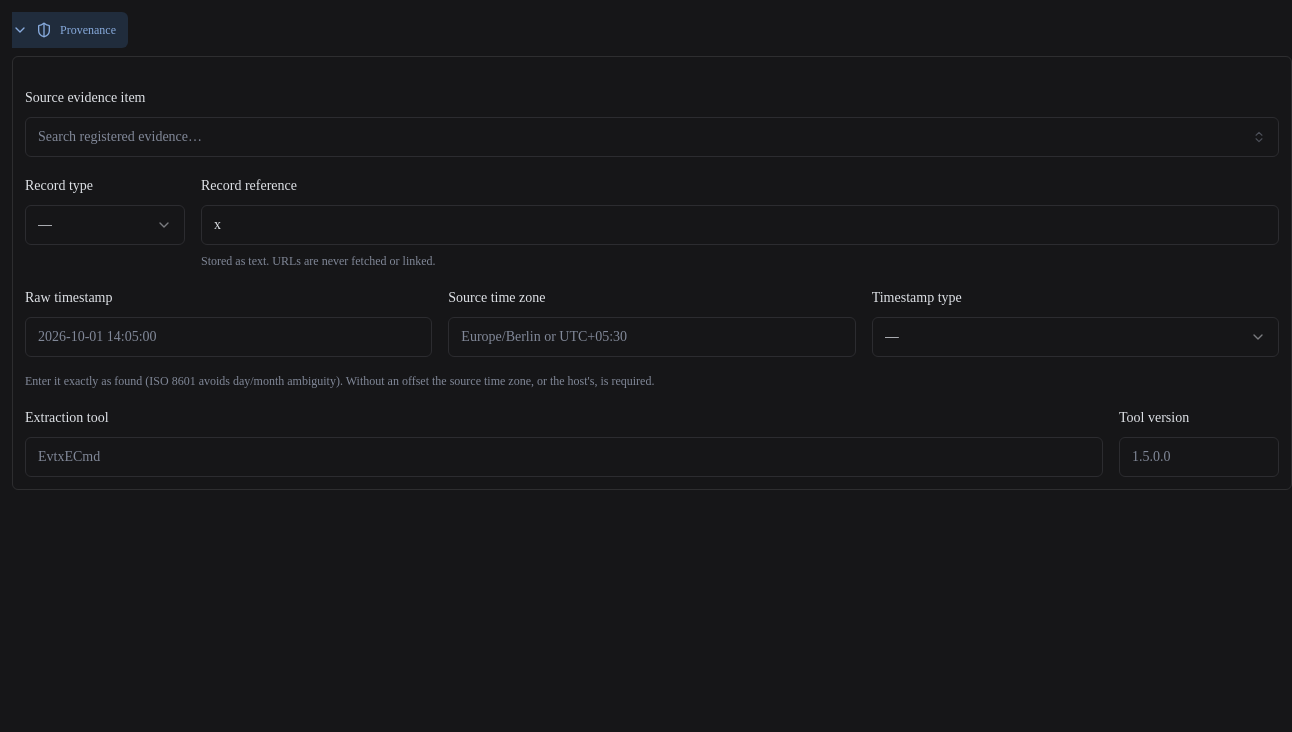
ProvenanceSection › debounces the normalize preview and shows the UTC value and skew
Type "2026-10-01 1" into the field labelled "Raw timestamp" at [229, 337], box [25,317,432,357]
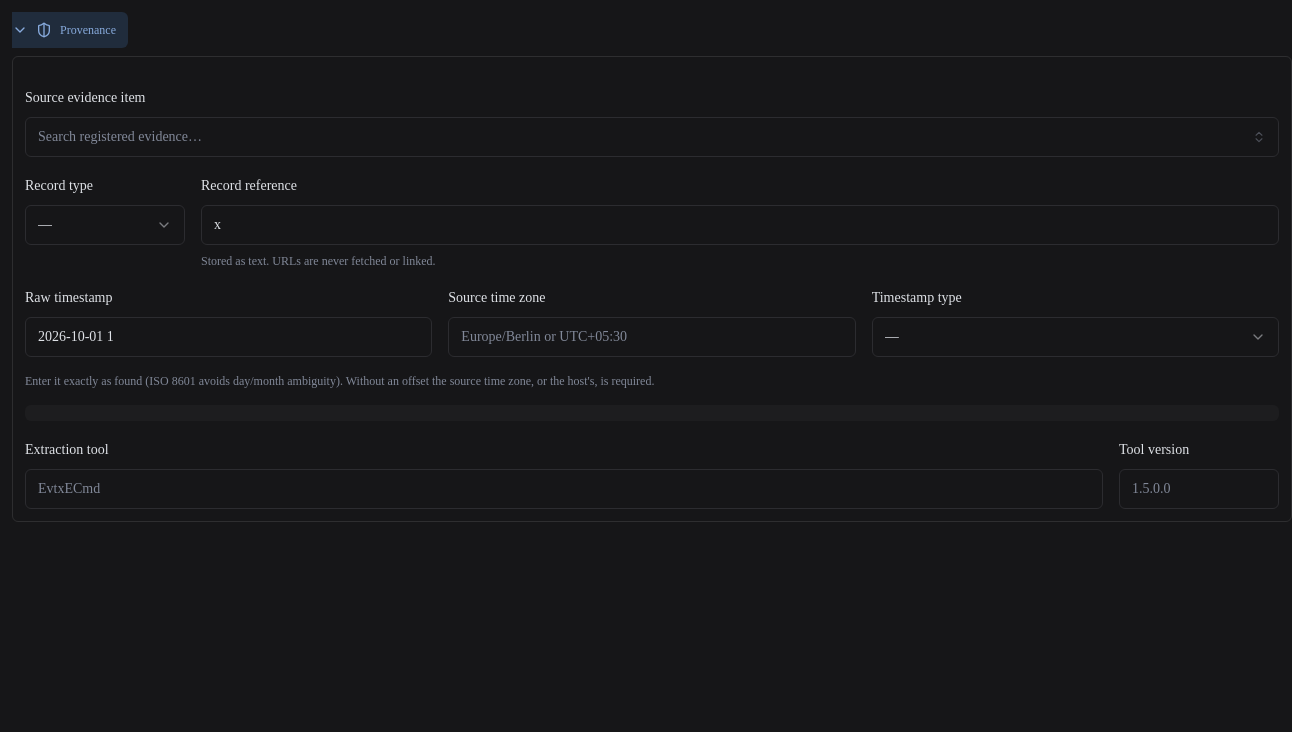
Replace the text in the field labelled "Raw timestamp" with "2026-10-01 14:05:00" at [229, 337], box [25,317,432,357]
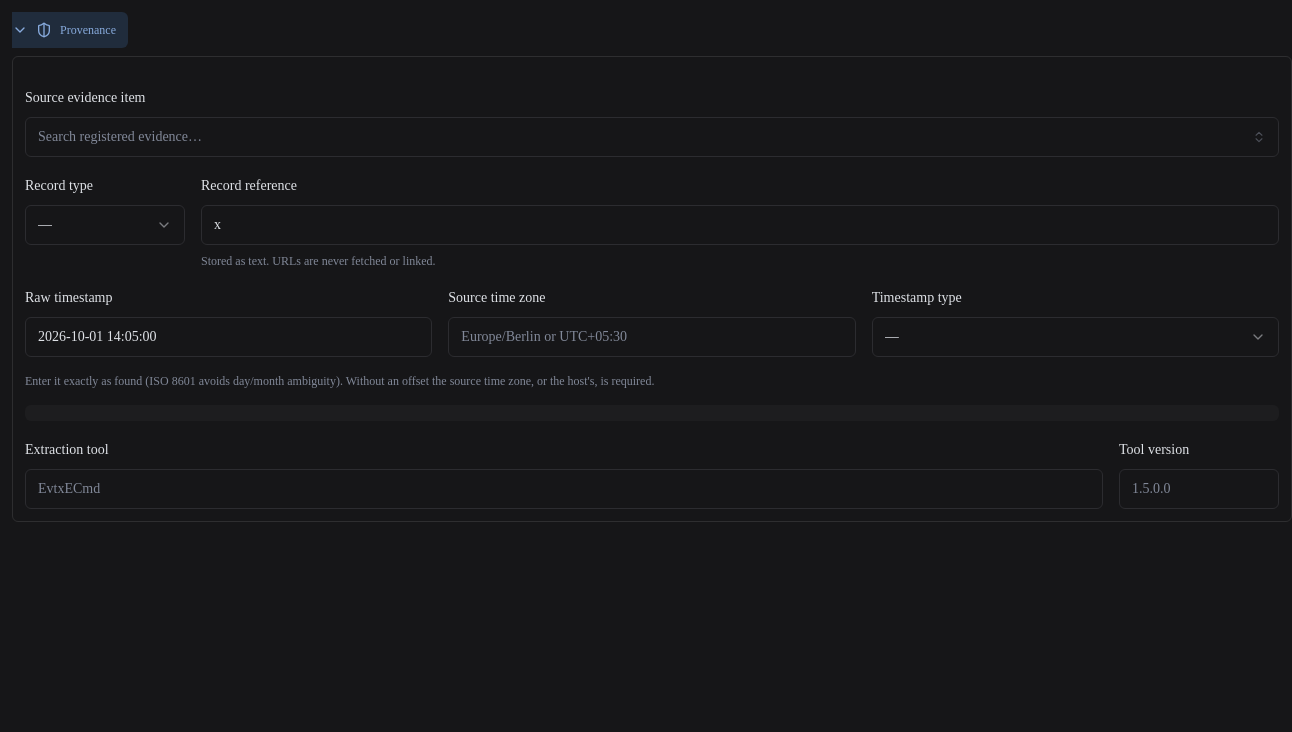
Type "Europe/Berlin" into the field labelled "Source time zone" at [652, 337], box [448,317,856,357]
Wait 450 ms
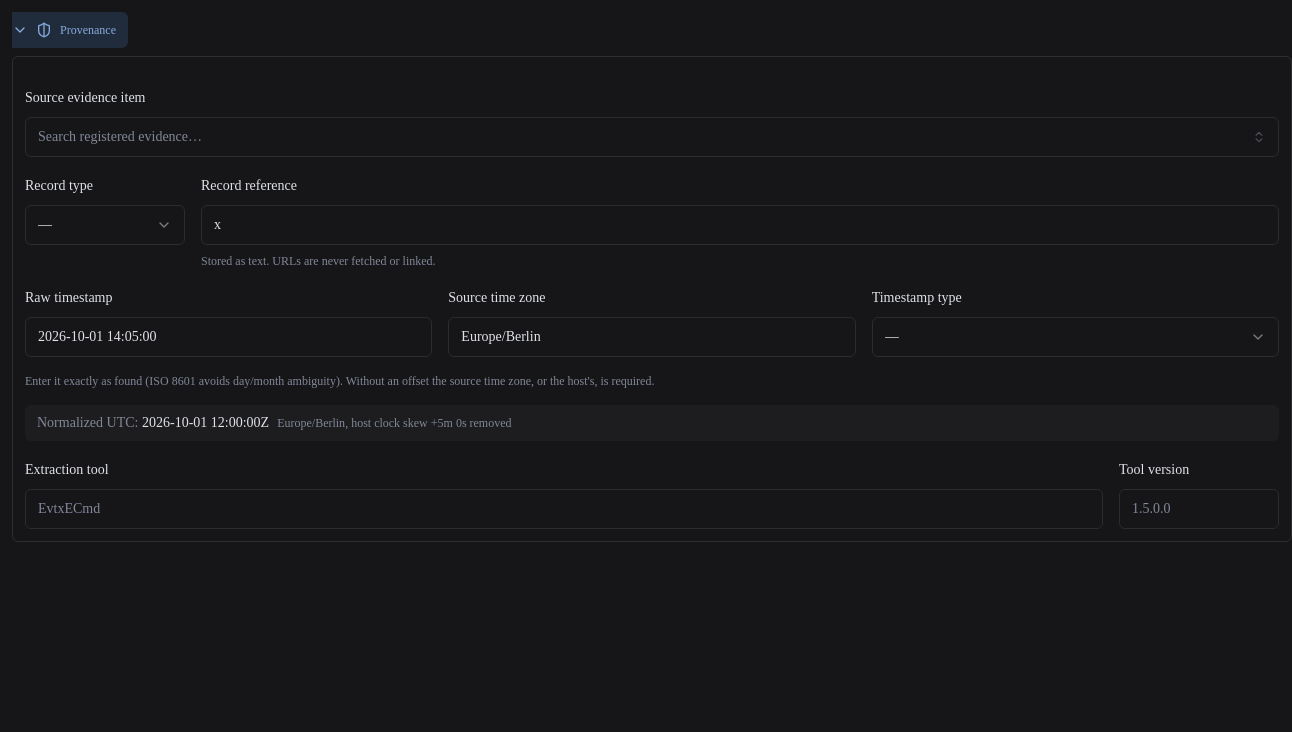
Expected: the element with test id "provenance-preview" shows "2026-10-01 12:00:00Z", [142,415,269,430]
Expected: the element with test id "provenance-preview" shows "Europe/Berlin", [277,416,345,430]
Expected: the element with test id "provenance-preview" shows "+5m 0s", [345,416,512,430]
